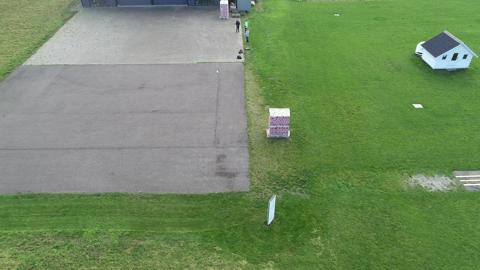RockwoolPallet: (219, 0, 229, 19)
